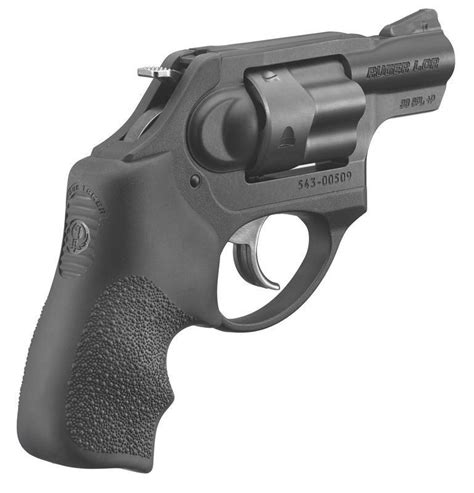gun: (17, 8, 458, 475)
